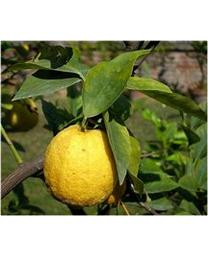lemon: (44, 126, 119, 205)
